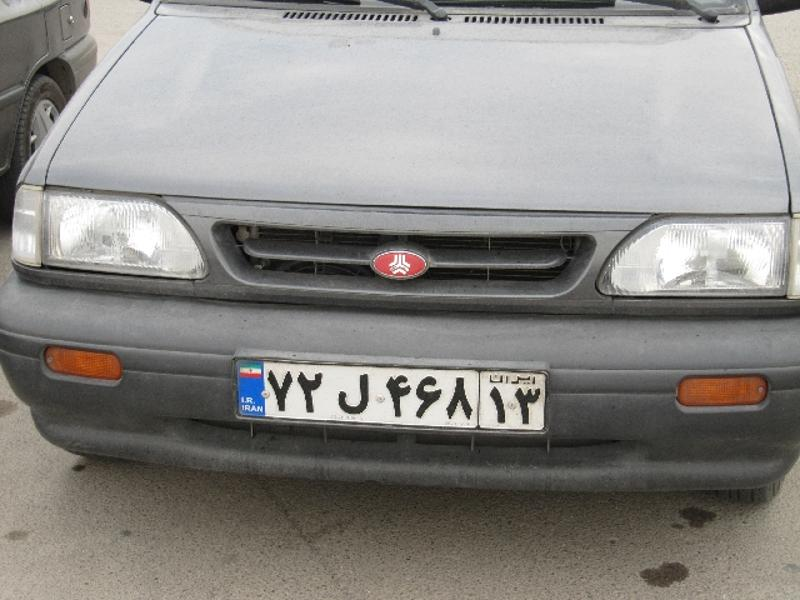Plate: (232, 358, 562, 432)
